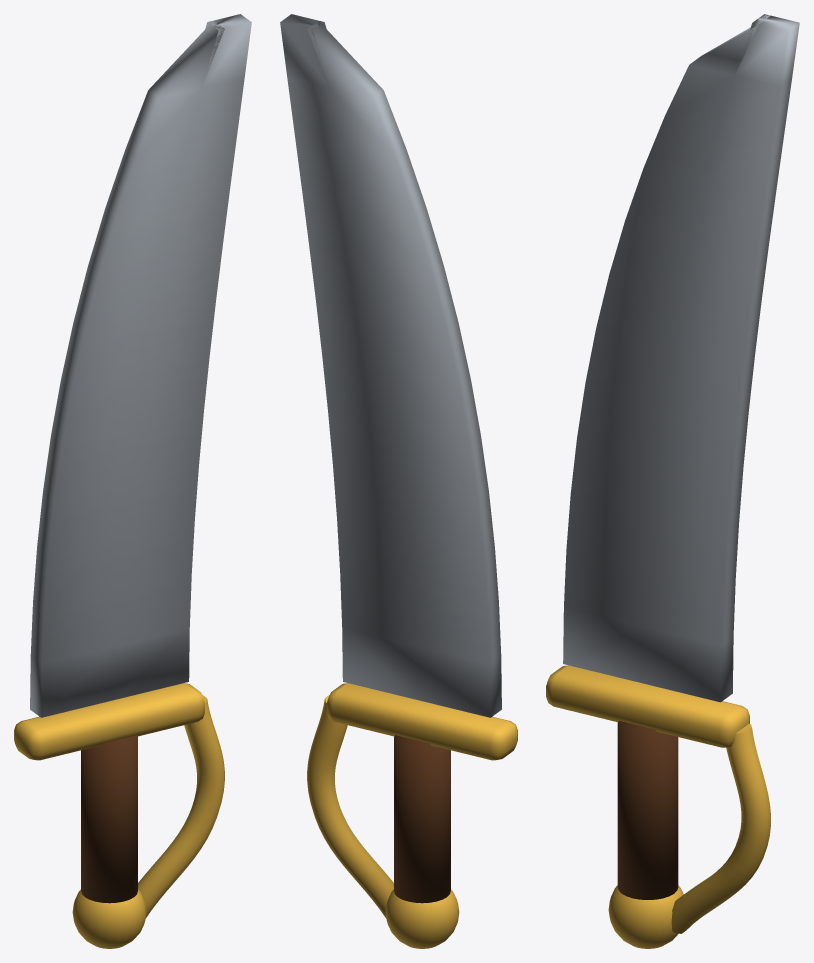
The model's file is sable.glb.
3 views of the same model, side by side, from view 1: azimuth 30°, elevation 25°; view 2: azimuth 150°, elevation 25°; view 3: azimuth 330°, elevation 25° (orthographic). The views are drawn at different scales.
Parts seen in each view (by area): view 1: sable_fijo; view 2: sable_fijo; view 3: sable_fijo.
Part boxes in pixels (x1,y1,x2,y2): sable_fijo: (14, 14, 251, 948); sable_fijo: (280, 14, 517, 948); sable_fijo: (546, 14, 799, 948).
Bounding box in the file's own units: 0.4575 × 1.73 × 0.13.
1 material, 1 textured.
